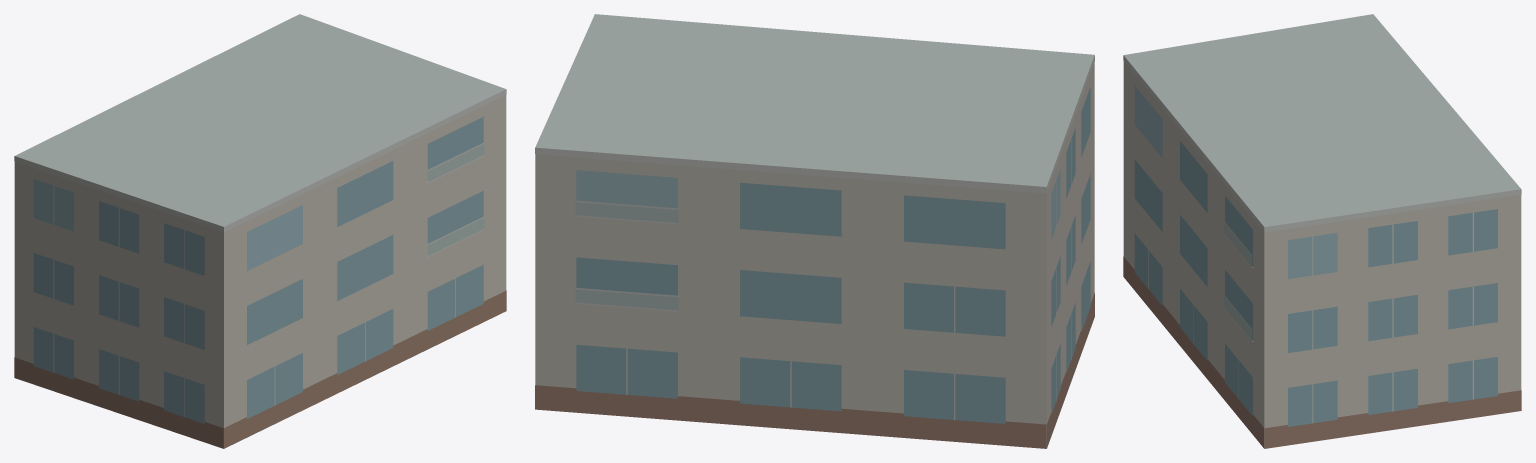
Rendered from survey-upis-32837826.glb.
The picture shows the model from 3 angles, left to right: view 1: azimuth 30°, elevation 25°; view 2: azimuth 150°, elevation 25°; view 3: azimuth 270°, elevation 25°; orthographic projection. The views are drawn at different scales.
Parts seen in each view (by area): view 1: survey-upis-32837826.tmp; view 2: survey-upis-32837826.tmp; view 3: survey-upis-32837826.tmp.
Boxes of the visible parts, bbox=[...] form: survey-upis-32837826.tmp: bbox=[14, 14, 506, 448]; survey-upis-32837826.tmp: bbox=[535, 14, 1094, 448]; survey-upis-32837826.tmp: bbox=[1123, 14, 1521, 448].
Size of the model in its own units: 20.43 by 9.9 by 16.12.
